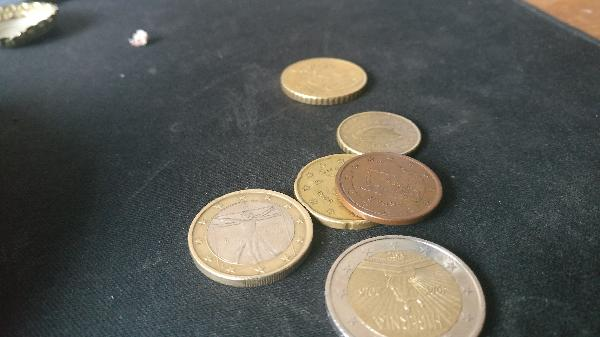Fifty Cent: (278, 56, 370, 103)
Five Cent: (339, 151, 445, 220)
One Euro: (186, 188, 320, 292)
Ten Cent: (335, 112, 429, 155)
Twenty Cent: (293, 152, 406, 232)
Two Euro: (323, 229, 486, 337)
